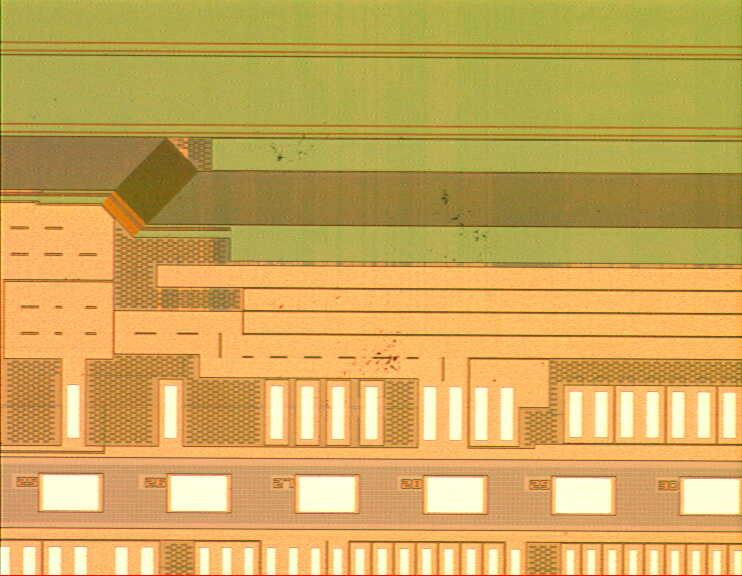PO CONTAMINATION: (257, 114, 602, 394)
